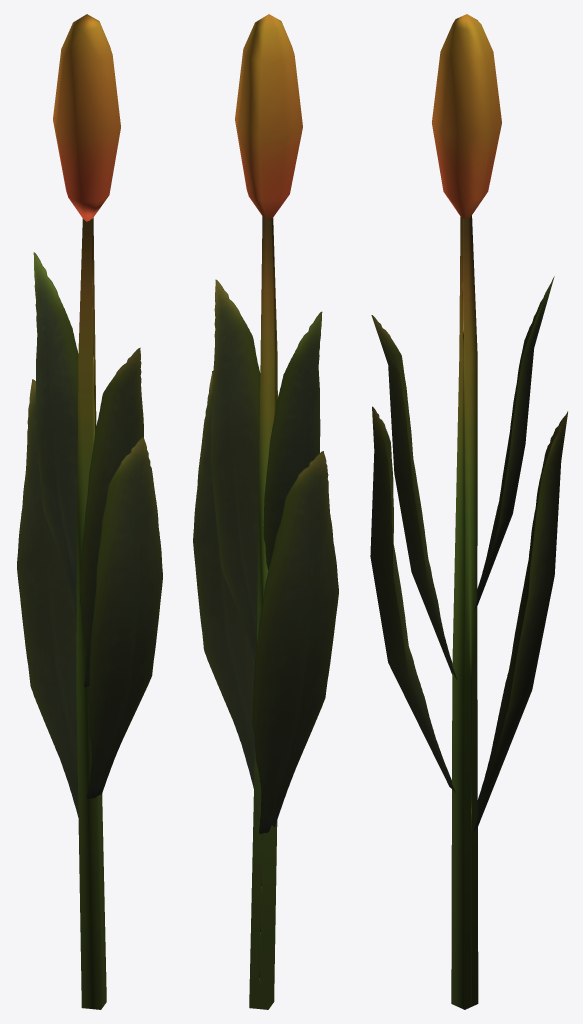
Rendered from Flower_C06.fbx.
3 renders of one model, left to right at view 1: azimuth 30°, elevation 25°; view 2: azimuth 210°, elevation 25°; view 3: azimuth 270°, elevation 25°, orthographic.
Visible parts, largest first — view 1: Flower_C06; view 2: Flower_C06; view 3: Flower_C06.
Boxes of the visible parts, <box> form: Flower_C06: <box>17,14,162,1009</box>; Flower_C06: <box>193,14,338,1009</box>; Flower_C06: <box>370,14,567,1009</box>.
Size of the model in its own units: 4.11 by 39.22 by 7.15.
